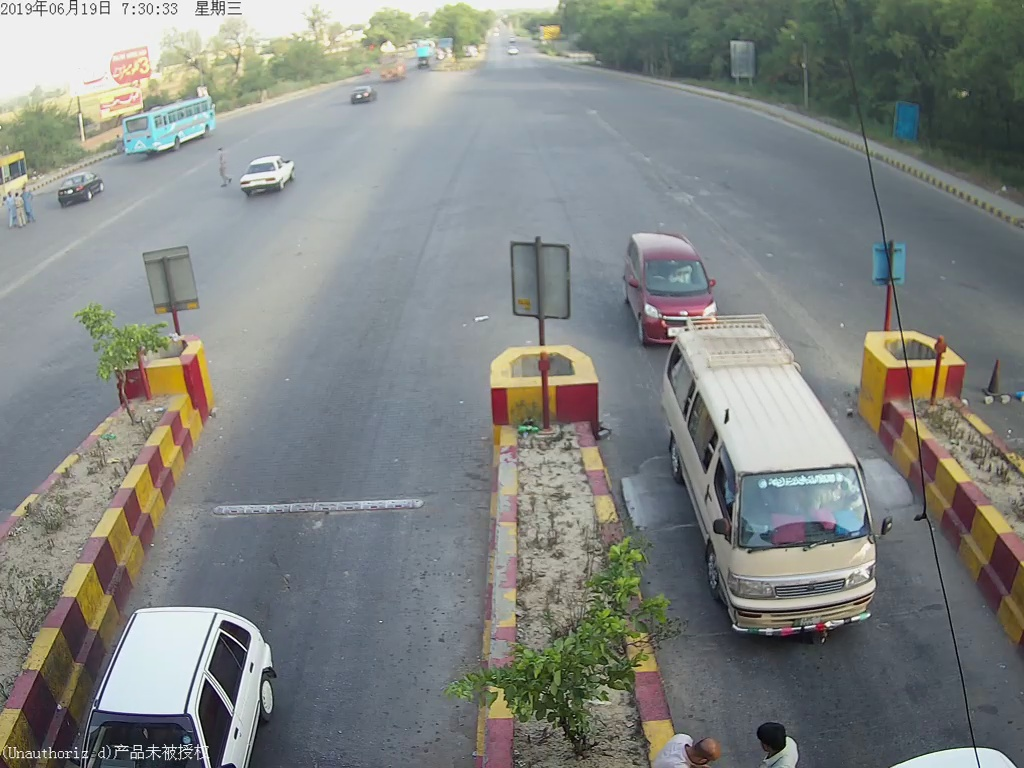Cat-1: (610, 231, 727, 321)
Cat-2: (650, 326, 896, 636)
